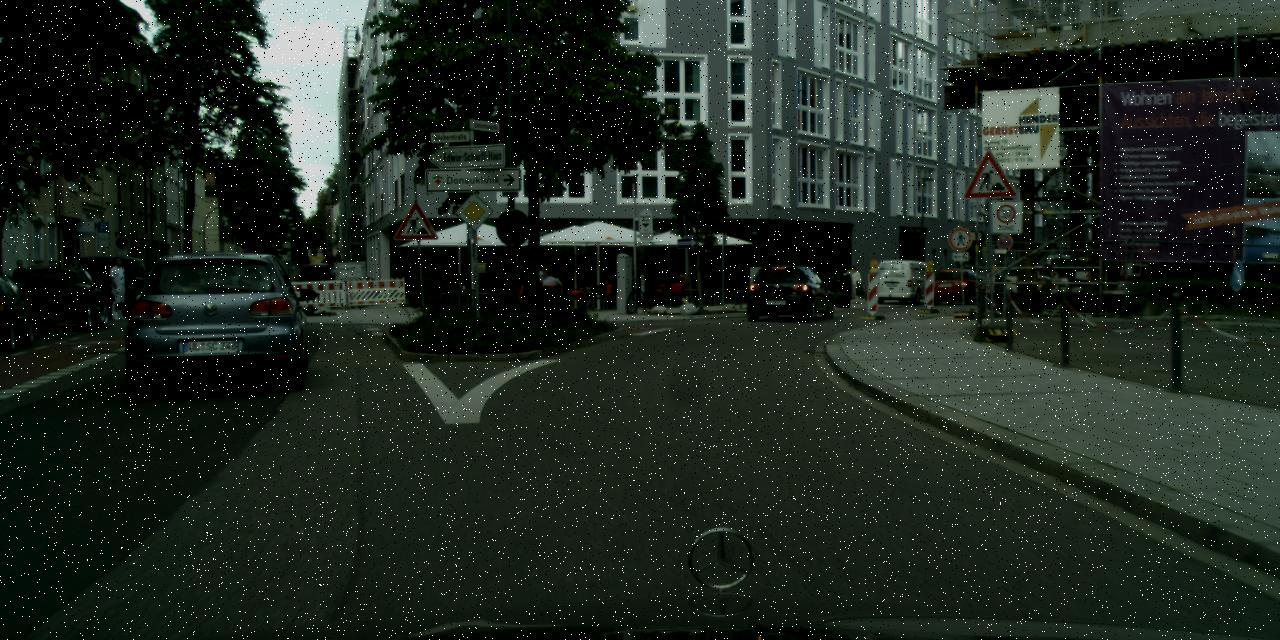ped: (105, 258, 130, 318), (9, 259, 32, 313), (834, 261, 850, 297), (847, 266, 859, 296)
